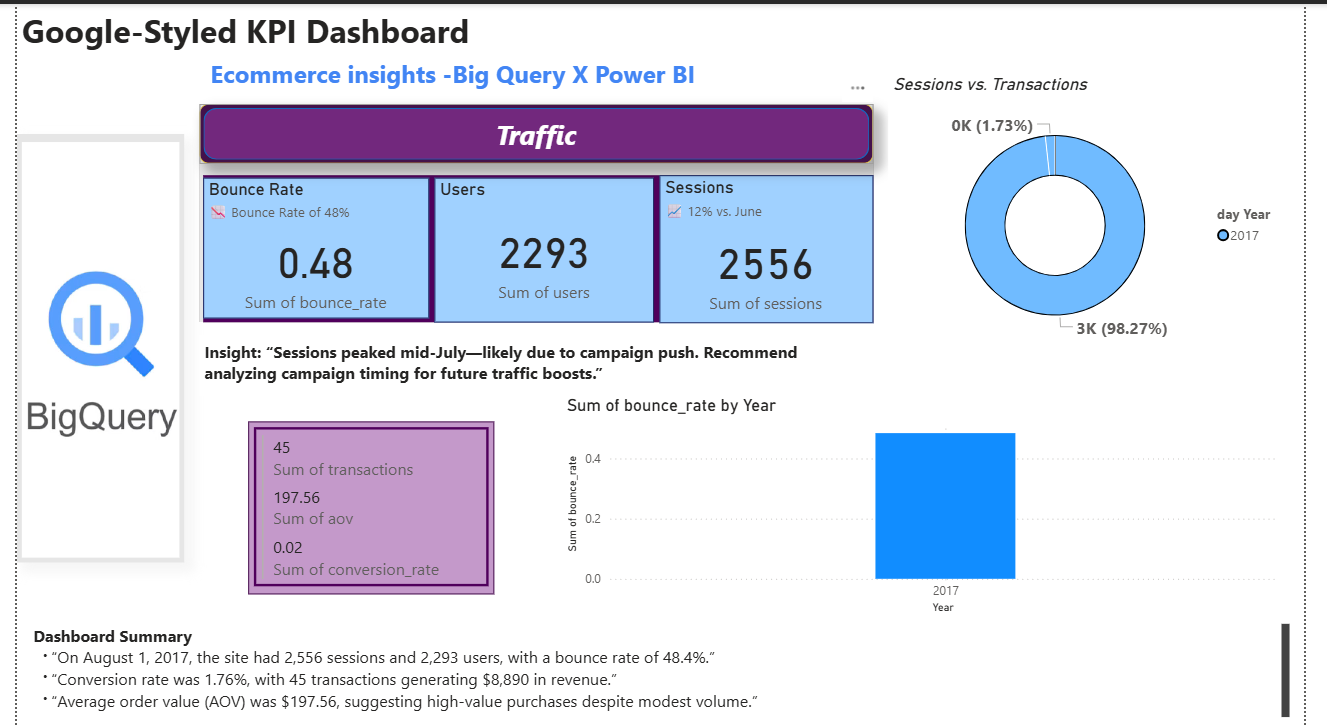

Layout of this report page (visuals, bound fields, positions):
{"tool":"powerbi","page":{"name":"One-day snapshot","canvas":[1280,720],"ordinal":0},"visuals":[{"type":"textbox","box":[0,0,1084.3,58.6],"z":0},{"type":"textbox","box":[182.9,48.6,501.4,51.4],"z":1000},{"type":"group","id":"g1","title":"Group 1","box":[185.9,170.5,666.7,147],"z":1000,"group":"g2"},{"type":"image","box":[0,129.4,166.7,426.7],"z":2000},{"type":"columnChart","fields":{"Category":["bq-results-20250827-133637-1756303302707.day.Variation.Date Hierarchy.Year","bq-results-20250827-133637-1756303302707.day.Variation.Date Hierarchy.Quarter","bq-results-20250827-133637-1756303302707.day.Variation.Date Hierarchy.Month","bq-results-20250827-133637-1756303302707.day.Variation.Date Hierarchy.Day"],"Y":["Sum(bq-results-20250827-133637-1756303302707.bounce_rate)"]},"box":[542.4,389.4,715.3,222.7],"z":3000},{"type":"textbox","box":[474.7,621.8,102.4,47.6],"z":4000},{"type":"card","title":"Sessions","fields":{"Values":["Sum(bq-results-20250827-133637-1756303302707.sessions)"]},"box":[639.6,170.5,212.9,147],"z":5000,"group":"g1"},{"type":"textbox","box":[181.6,329.6,670.5,59.7],"z":5000},{"type":"group","id":"g2","title":"Group 2","box":[181.6,99.5,671,218],"z":6000},{"type":"donutChart","title":"Sessions vs. Transactions \n","fields":{"Category":["bq-results-20250827-133637-1756303302707.day.Variation.Date Hierarchy.Year","bq-results-20250827-133637-1756303302707.day.Variation.Date Hierarchy.Quarter","bq-results-20250827-133637-1756303302707.day.Variation.Date Hierarchy.Month","bq-results-20250827-133637-1756303302707.day.Variation.Date Hierarchy.Day"],"Y":["Sum(bq-results-20250827-133637-1756303302707.sessions)","Sum(bq-results-20250827-133637-1756303302707.transactions)","Sum(bq-results-20250827-133637-1756303302707.conversion_rate)"]},"box":[867,69.7,404.3,282.4],"z":7000},{"type":"card","title":"Bounce Rate","fields":{"Values":["Sum(bq-results-20250827-133637-1756303302707.bounce_rate)"]},"box":[185.9,173,224.4,140.1],"z":8000,"group":"g1"},{"type":"card","fields":{"Values":["Sum(bq-results-20250827-133637-1756303302707.bounce_rate)"]},"box":[185.9,173,224.4,144.2],"z":8000,"group":"g1"},{"type":"multiRowCard","fields":{"Values":["Sum(bq-results-20250827-133637-1756303302707.transactions)","Sum(bq-results-20250827-133637-1756303302707.aov)","Sum(bq-results-20250827-133637-1756303302707.conversion_rate)"]},"box":[230.1,415.5,245.1,171.7],"z":8000},{"type":"card","title":"Users ","fields":{"Values":["Sum(bq-results-20250827-133637-1756303302707.users)"]},"box":[416.6,173.2,218.7,144.2],"z":9000,"group":"g1"},{"type":"textbox","box":[11.2,612,1260.1,108.2],"z":9000},{"type":"shape","box":[181.6,99.5,670.5,59.4],"z":11000,"group":"g2"}]}

Visuals, with their boxes in screenshot pixels (x1, y1, x2, y2), scaled from the page's 1280x720 canvas onto the 1327x726 screenshot:
textbox: x1=0, y1=0, x2=1124, y2=59
textbox: x1=190, y1=49, x2=709, y2=101
"Group 1" group: x1=193, y1=172, x2=884, y2=320
image: x1=0, y1=130, x2=173, y2=561
columnChart - bq-results-20250827-133637-1756303302707.day.Variation.Date Hierarchy.Year x bq-results-20250827-133637-1756303302707.day.Variation.Date Hierarchy.Quarter: x1=562, y1=393, x2=1304, y2=617
textbox: x1=492, y1=627, x2=598, y2=675
"Sessions" card: x1=663, y1=172, x2=884, y2=320
textbox: x1=188, y1=332, x2=883, y2=393
"Group 2" group: x1=188, y1=100, x2=884, y2=320
"Sessions vs. Transactions 
" donutChart: x1=899, y1=70, x2=1318, y2=355
"Bounce Rate" card: x1=193, y1=174, x2=425, y2=316
card - Sum(bq-results-20250827-133637-1756303302707.bounce_rate): x1=193, y1=174, x2=425, y2=320
multiRowCard - Sum(bq-results-20250827-133637-1756303302707.transactions) x Sum(bq-results-20250827-133637-1756303302707.aov): x1=239, y1=419, x2=493, y2=592
"Users " card: x1=432, y1=175, x2=659, y2=320
textbox: x1=12, y1=617, x2=1318, y2=725
shape: x1=188, y1=100, x2=883, y2=160
